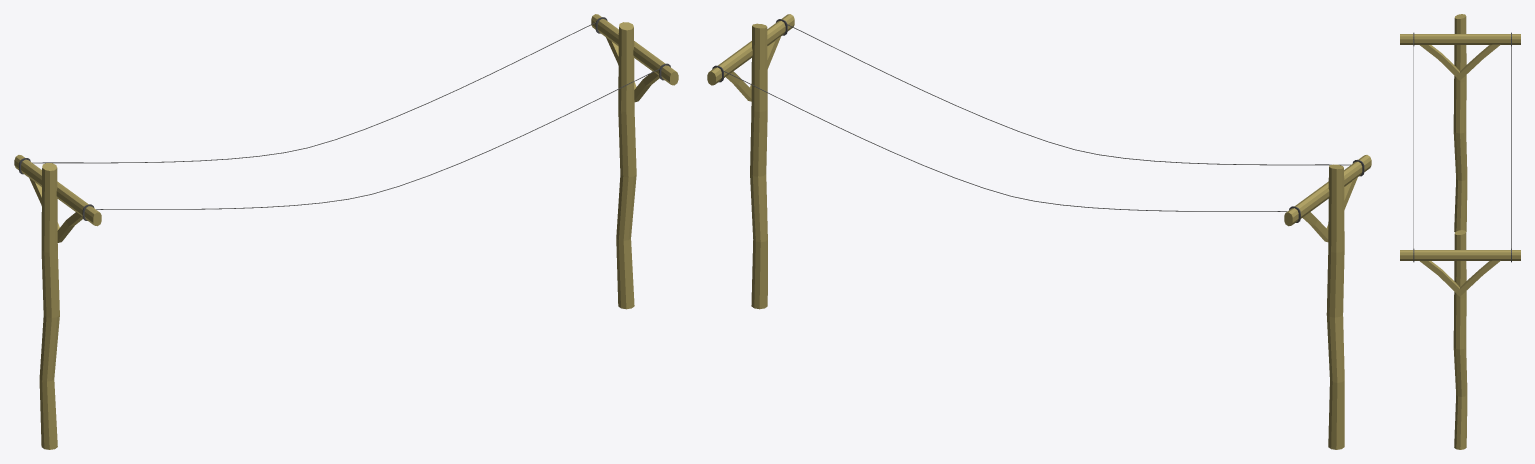
File: lamppost01.fbx
The picture shows the model from 3 angles, left to right: view 1: azimuth 30°, elevation 25°; view 2: azimuth 150°, elevation 25°; view 3: azimuth 270°, elevation 25°; orthographic projection. The views are drawn at different scales.
Parts seen in each view (by area): view 1: Cube.013; view 2: Cube.013; view 3: Cube.013.
Part boxes in pixels (x1=…): Cube.013: x1=14, y1=14, x2=678, y2=449; Cube.013: x1=707, y1=14, x2=1371, y2=449; Cube.013: x1=1400, y1=14, x2=1520, y2=449.
Size of the model in its own units: 9.46 by 4.24 by 2.16.
